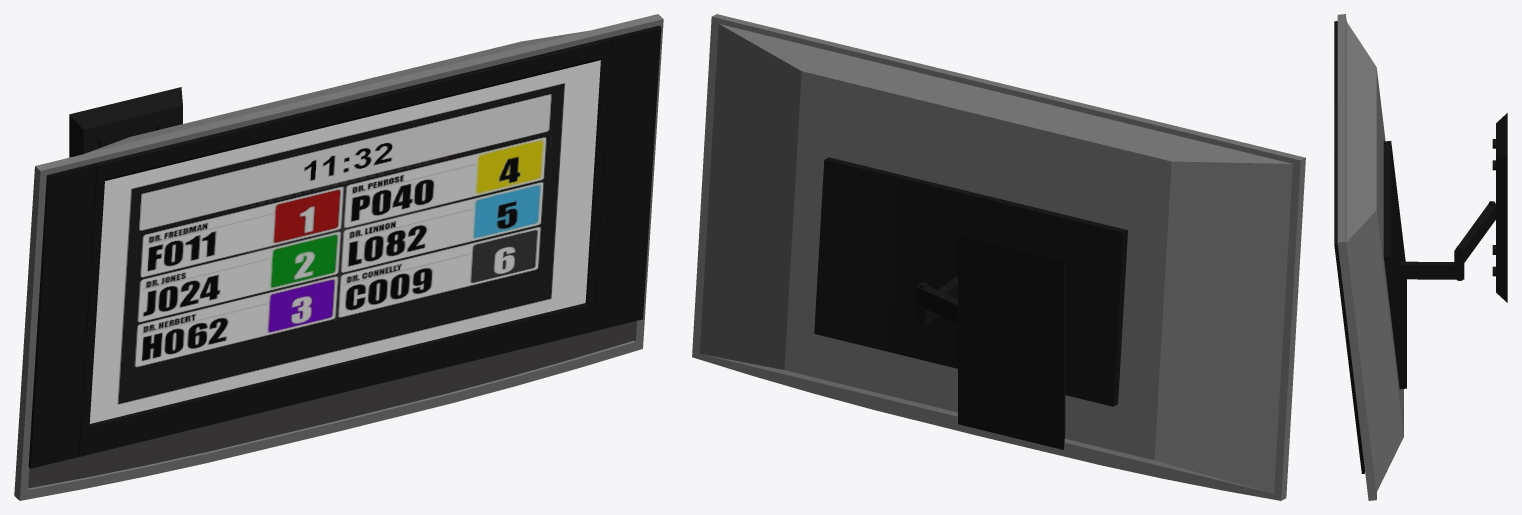
The picture shows the model from 3 angles, left to right: view 1: azimuth 30°, elevation 25°; view 2: azimuth 150°, elevation 25°; view 3: azimuth 270°, elevation 25°; orthographic projection. The views are drawn at different scales.
Visible parts, largest first — view 1: tv; view 2: tv; view 3: tv.
Part boxes in pixels (bbox=[...]): tv: bbox=[14, 14, 663, 500]; tv: bbox=[692, 14, 1305, 500]; tv: bbox=[1334, 14, 1507, 500].
Bounding box in the file's own units: 143 × 77.57 × 45.85.
Materials: 2 (2 with a texture image).
